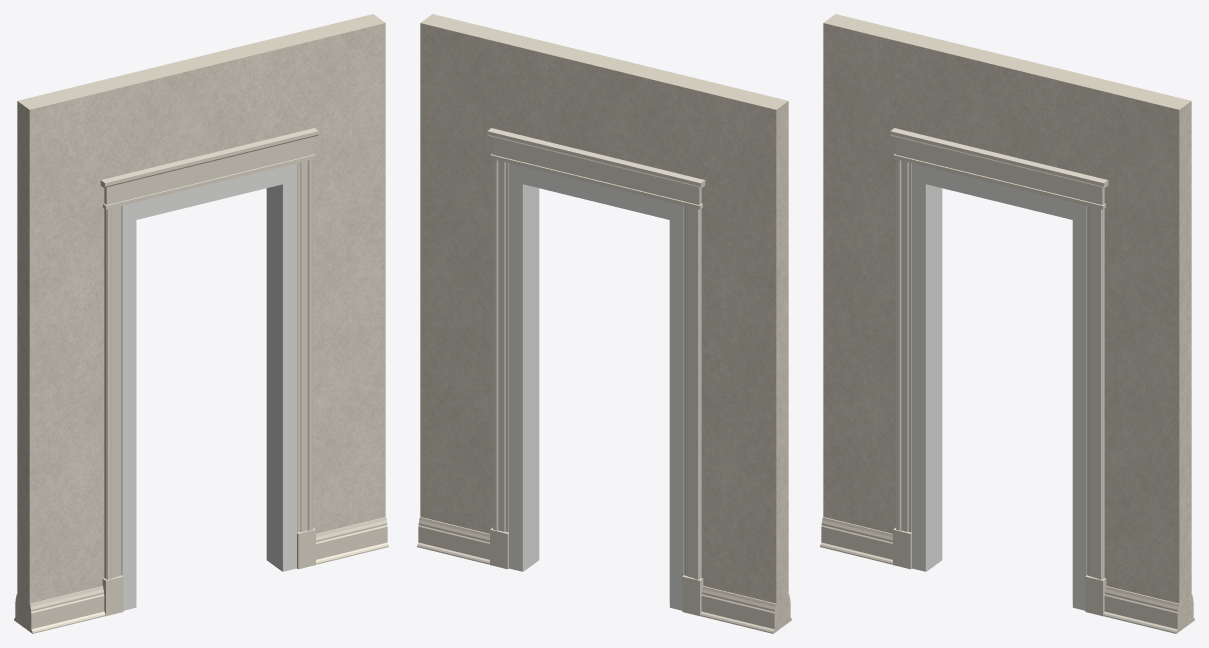
Rendered from interior_wall_doorway.glb.
The picture shows the model from 3 angles, left to right: view 1: azimuth 30°, elevation 25°; view 2: azimuth 150°, elevation 25°; view 3: azimuth 330°, elevation 25°; orthographic projection.
Visible parts, largest first — view 1: interior_wall_doorway_plaster, molduras, interior_wall_doorway_frame; view 2: interior_wall_doorway_plaster, molduras, interior_wall_doorway_frame; view 3: interior_wall_doorway_plaster, molduras, interior_wall_doorway_frame.
Boxes of the visible parts, left/top/right/bottom form: interior_wall_doorway_plaster: left=17, top=14, right=385, bottom=631; molduras: left=14, top=128, right=388, bottom=633; interior_wall_doorway_frame: left=121, top=163, right=296, bottom=610; interior_wall_doorway_plaster: left=420, top=14, right=788, bottom=631; molduras: left=417, top=128, right=791, bottom=633; interior_wall_doorway_frame: left=509, top=163, right=684, bottom=610; interior_wall_doorway_plaster: left=823, top=14, right=1191, bottom=631; molduras: left=820, top=128, right=1194, bottom=633; interior_wall_doorway_frame: left=912, top=163, right=1087, bottom=610.
Bounding box in the file's own units: 2 × 2.8 × 0.204.
Materials: 3 (1 with a texture image).
